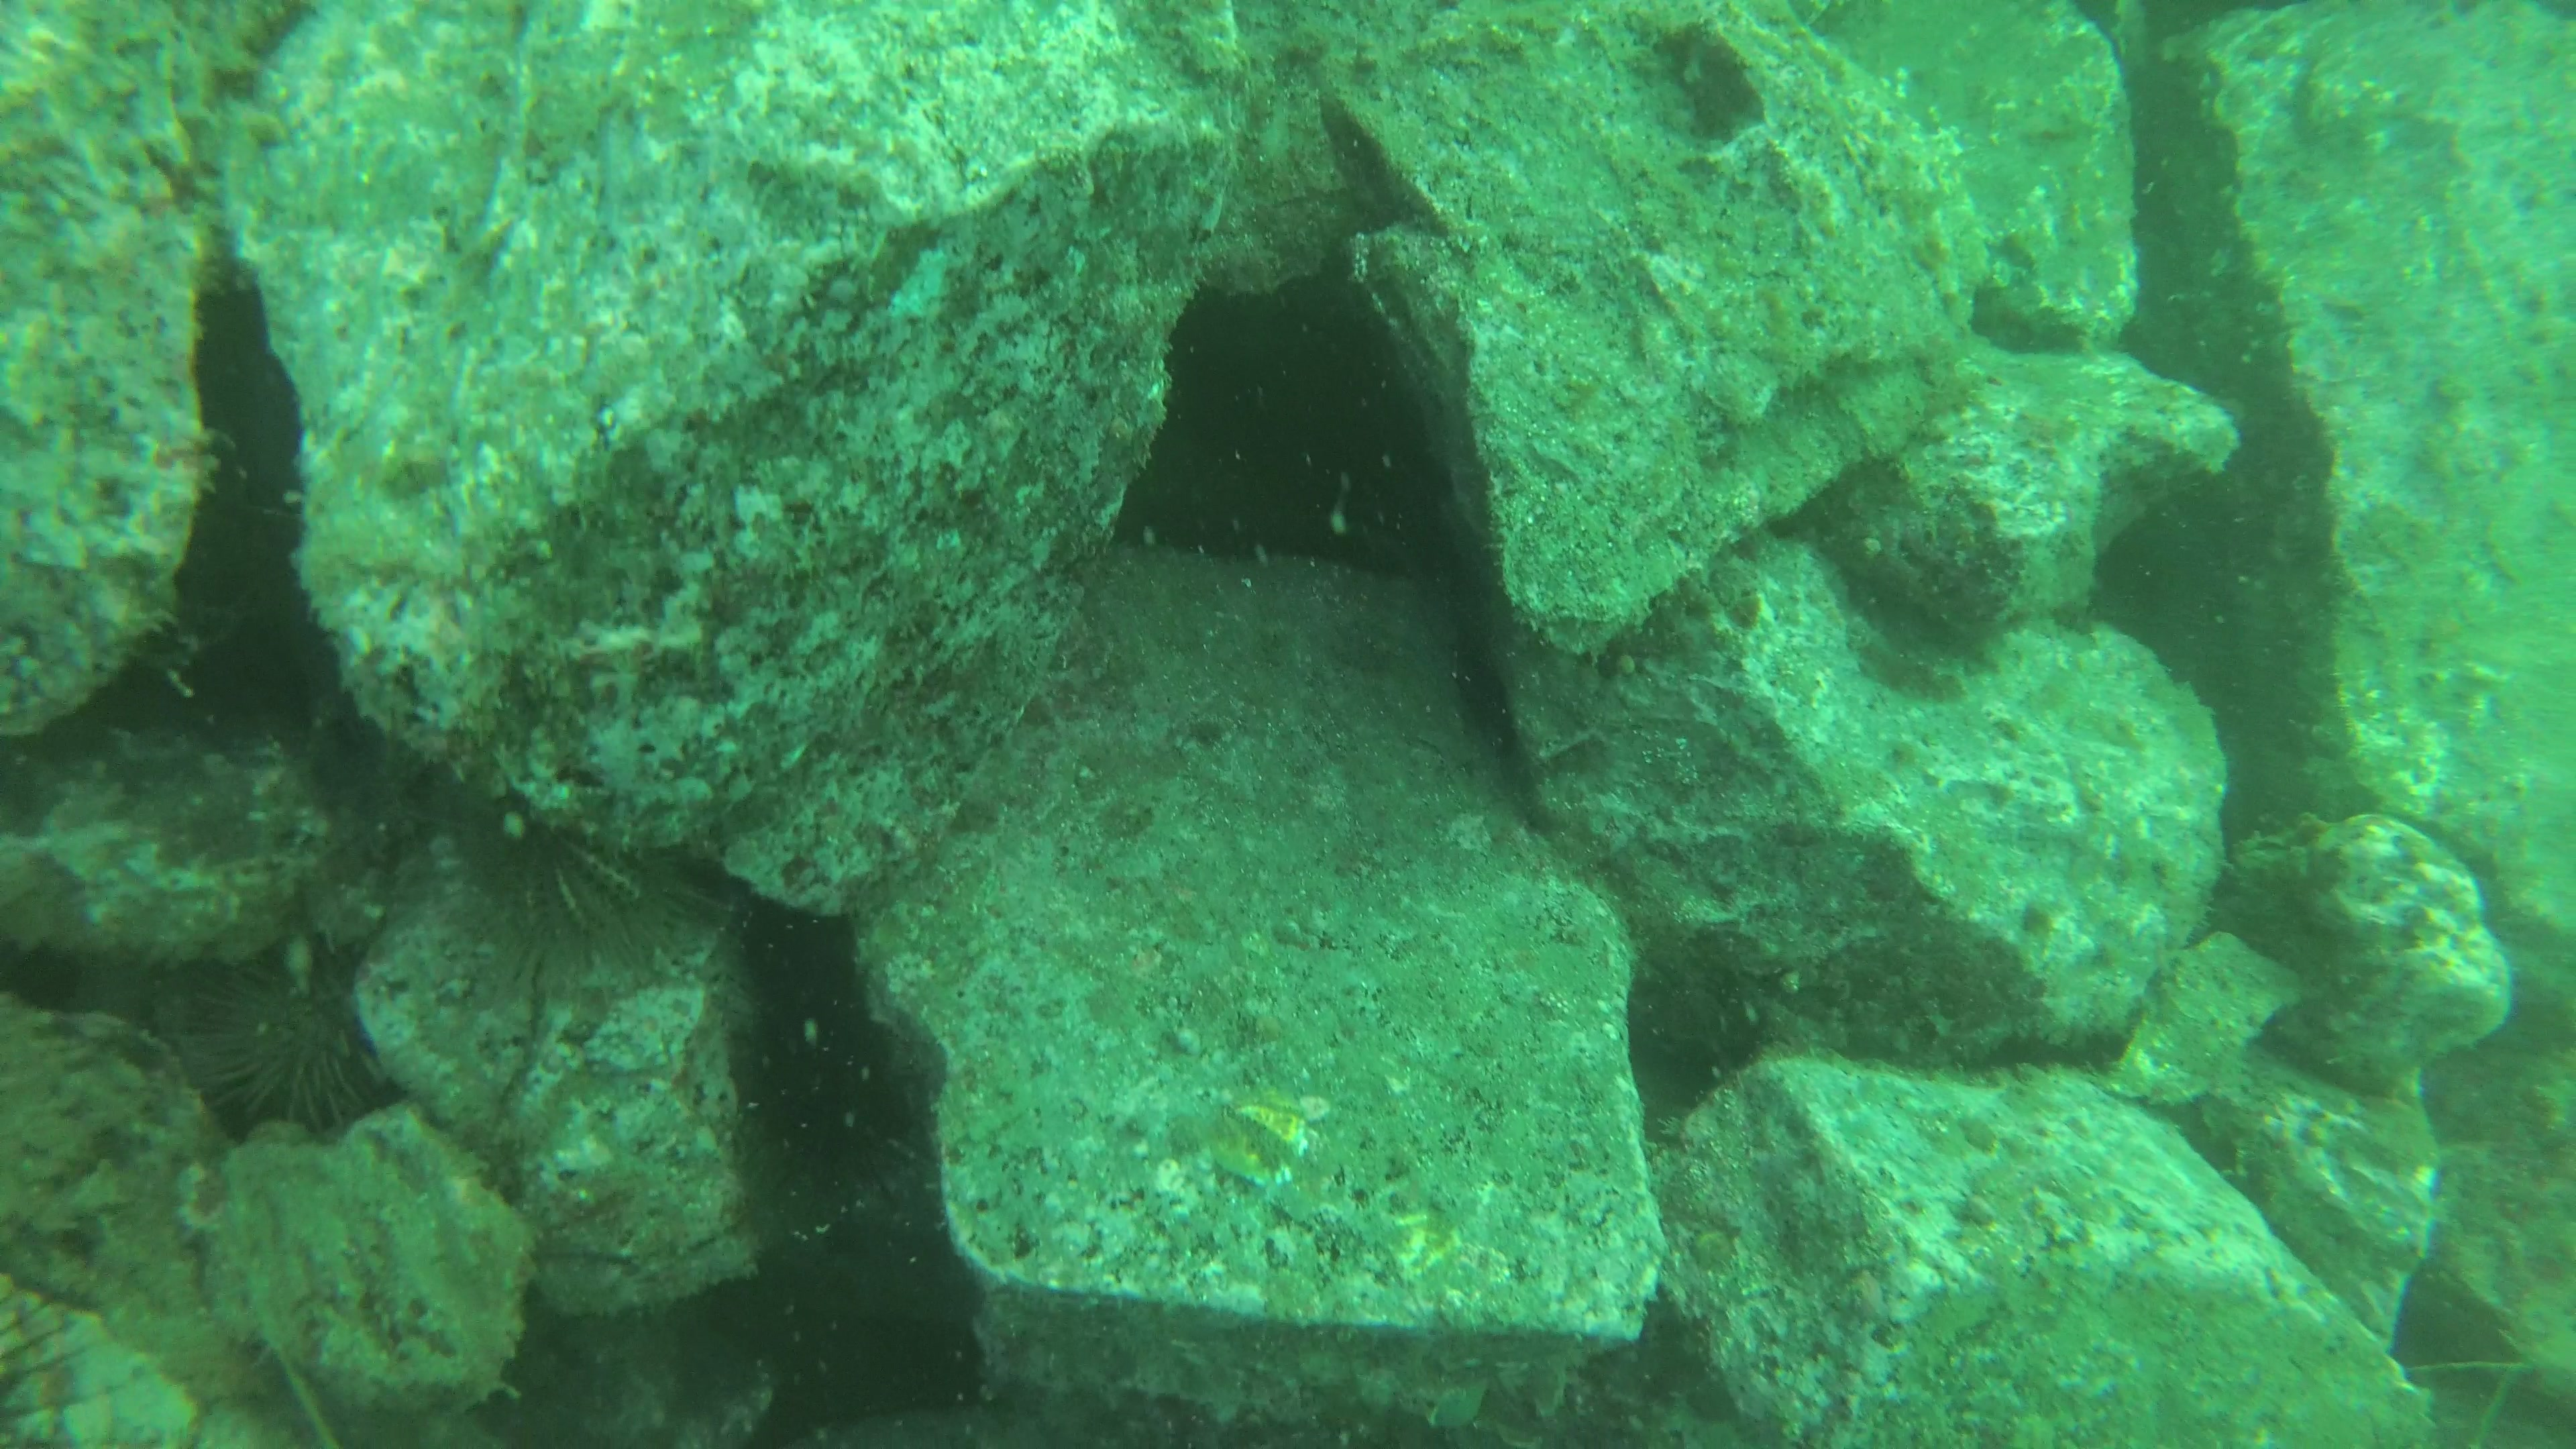echinus: (439, 801, 708, 966), (189, 943, 391, 1143), (299, 717, 442, 865)
